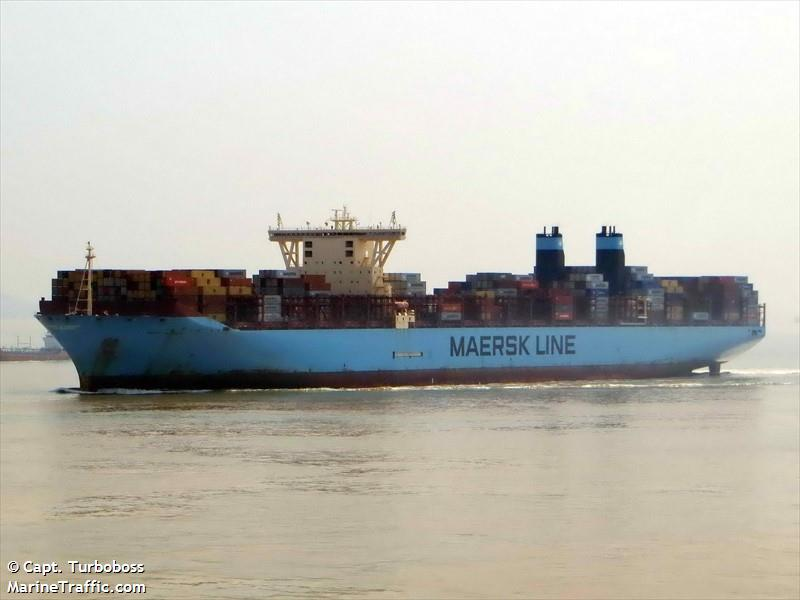rust: (218, 363, 679, 386), (277, 294, 400, 325)
